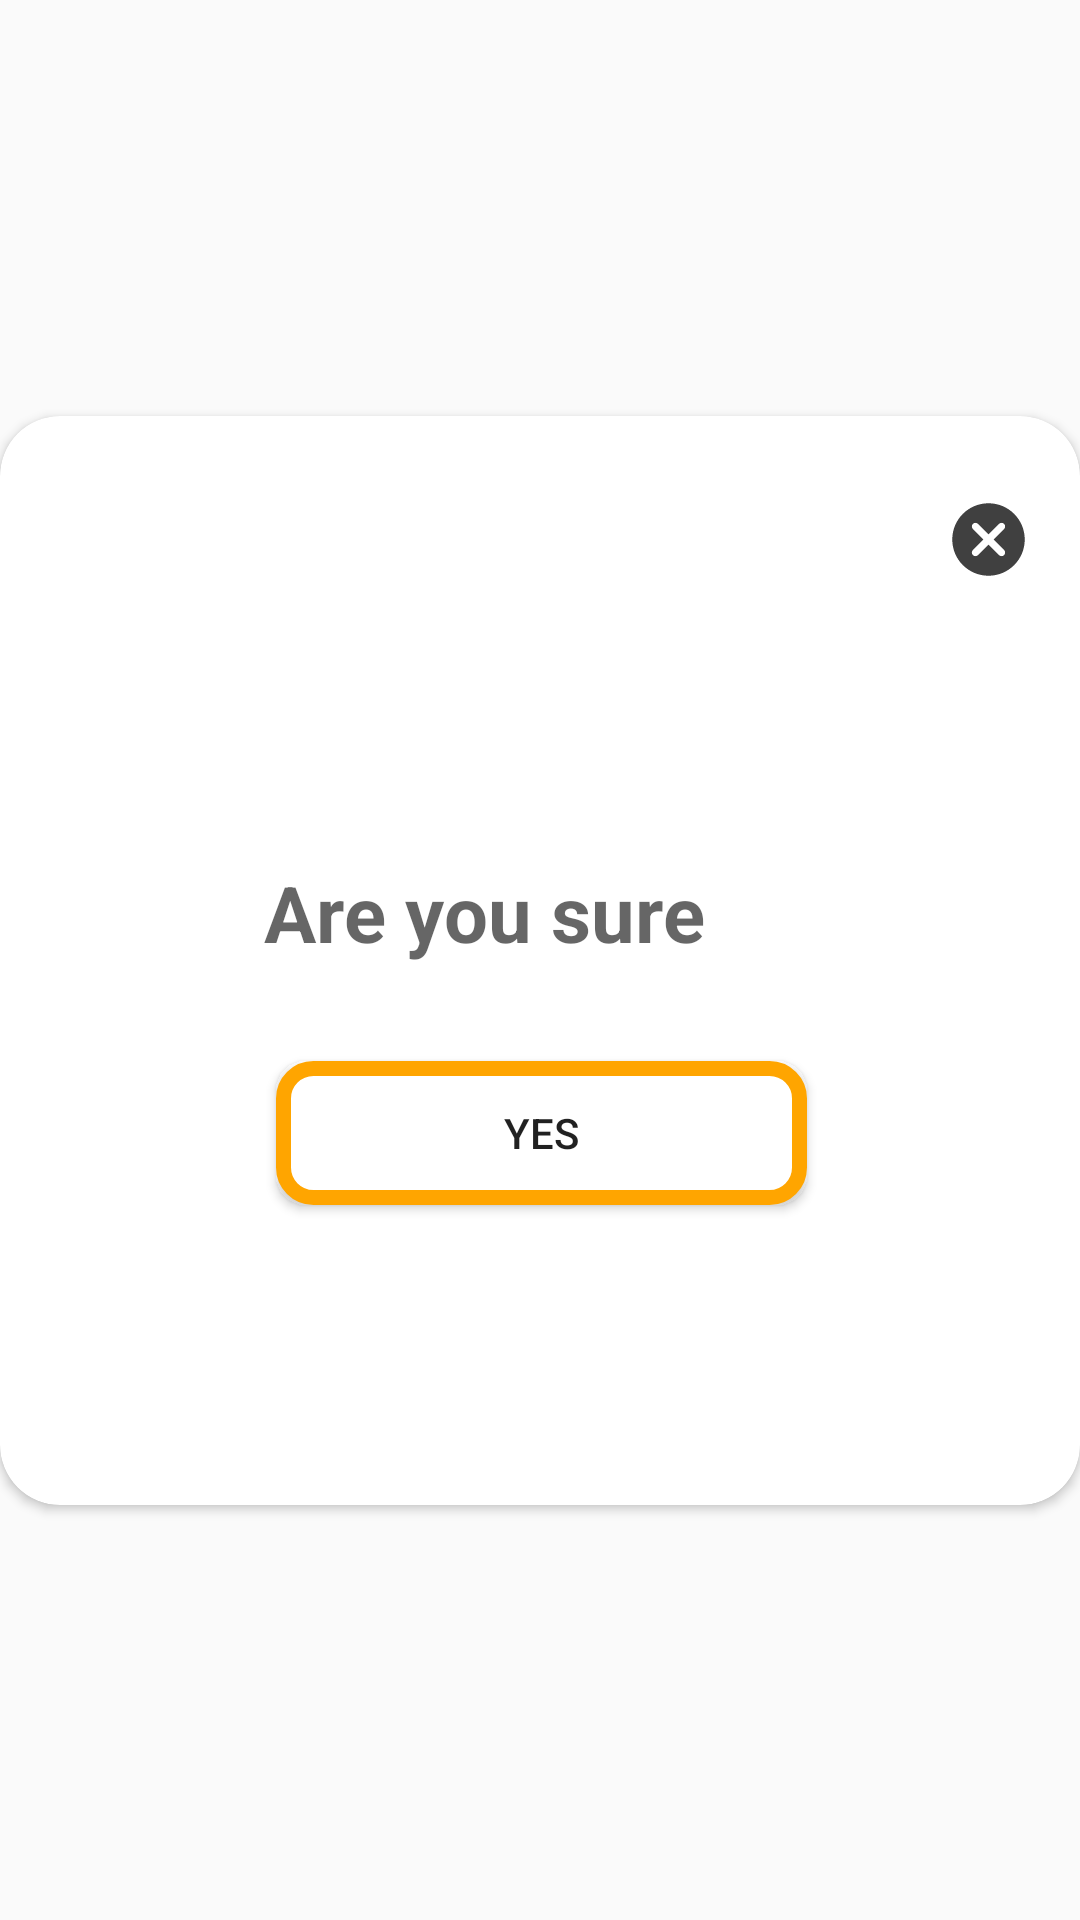

Icon click points for this 1080x1920 phone screenshot, format (x,y):
close dialog: (988,539)
